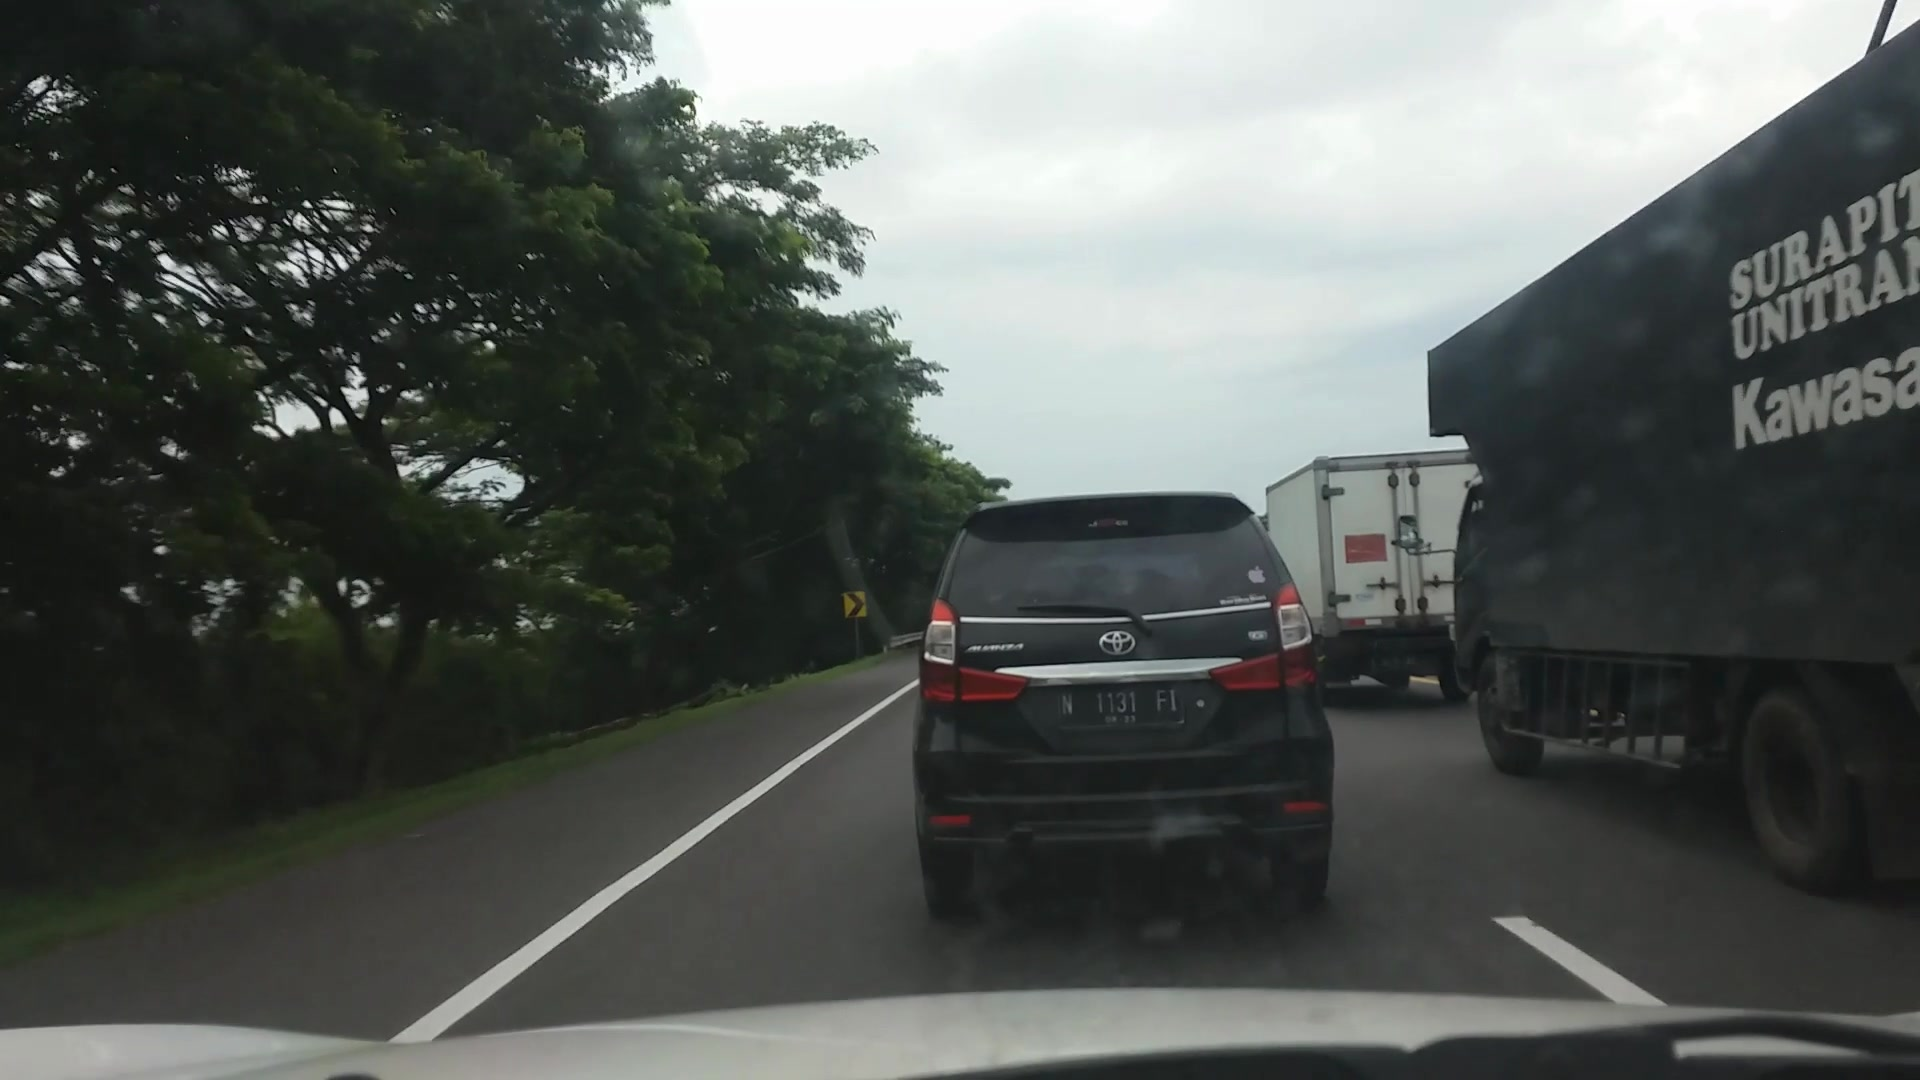plate_positive: (1056, 684, 1184, 727)
